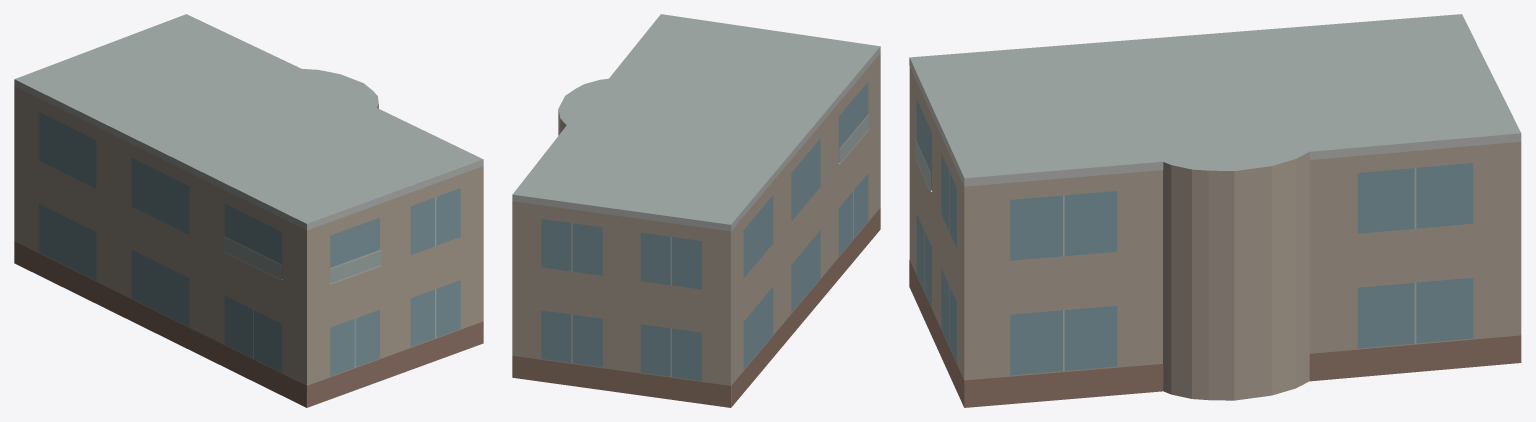
File: survey-upis-32616217.glb
The picture shows the model from 3 angles, left to right: view 1: azimuth 30°, elevation 25°; view 2: azimuth 150°, elevation 25°; view 3: azimuth 270°, elevation 25°; orthographic projection. The views are drawn at different scales.
Visible parts, largest first — view 1: survey-upis-32616217.tmp; view 2: survey-upis-32616217.tmp; view 3: survey-upis-32616217.tmp.
Part boxes in pixels (bbox=[...]): survey-upis-32616217.tmp: bbox=[14, 14, 483, 407]; survey-upis-32616217.tmp: bbox=[512, 14, 880, 407]; survey-upis-32616217.tmp: bbox=[909, 14, 1521, 407].
Size of the model in its own units: 10.37 by 6.75 by 16.32.
